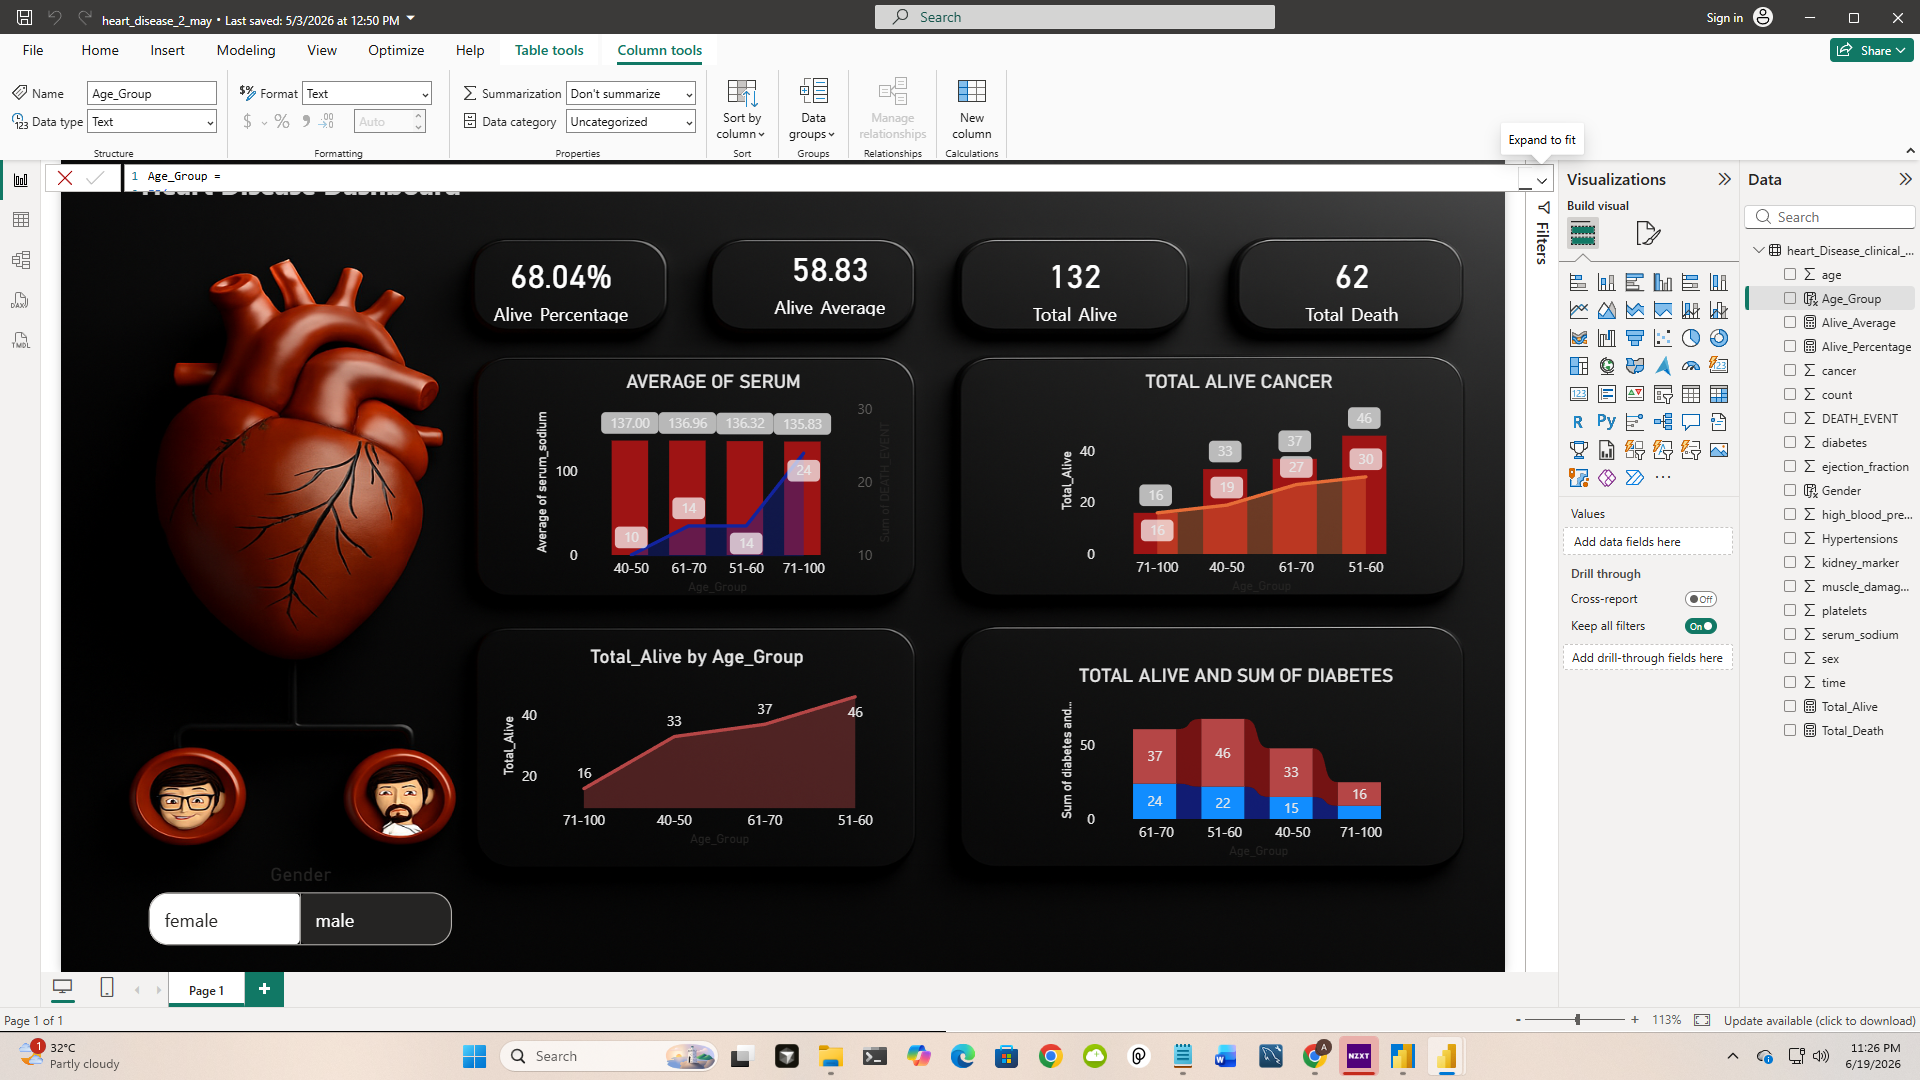

The dashboard page shown, as its layout file describes it:
{"tool":"powerbi","page":{"name":"Page 1","canvas":[1280,720],"ordinal":0},"visuals":[{"type":"textbox","box":[9.5,0,406.3,46.3],"z":0},{"type":"card","fields":{"Values":["heart_Disease_clinical_records_.Alive_Percentage"]},"box":[343.2,74.5,200.4,75.4],"z":1000},{"type":"lineClusteredColumnComboChart","title":"TOTAL ALIVE CANCER","fields":{"Y":["heart_Disease_clinical_records_.Total_Alive"],"Category":["heart_Disease_clinical_records_.Age_Group"],"Y2":["Sum(heart_Disease_clinical_records_.cancer)"]},"box":[881.4,186.2,326.3,202.2],"z":2000},{"type":"card","fields":{"Values":["heart_Disease_clinical_records_.Total_Death"]},"box":[1044.5,74.5,200.4,75.4],"z":3000},{"type":"card","fields":{"Values":["heart_Disease_clinical_records_.Total_Alive"]},"box":[812.2,74.5,173.8,75.4],"z":4000},{"type":"card","fields":{"Values":["heart_Disease_clinical_records_.Alive_Average"]},"box":[581.7,68.3,200.4,75.4],"z":5000},{"type":"lineChart","fields":{"Y":["heart_Disease_clinical_records_.Total_Alive"],"Category":["heart_Disease_clinical_records_.Age_Group"]},"box":[386.6,430,354.7,182.7],"z":6000},{"type":"ribbonChart","title":"TOTAL ALIVE AND SUM OF DIABETES","fields":{"Y":["Sum(heart_Disease_clinical_records_.diabetes)","heart_Disease_clinical_records_.Total_Alive"],"Category":["heart_Disease_clinical_records_.Age_Group"]},"box":[881.4,446.9,321,176.5],"z":7000},{"type":"advancedSlicerVisual","fields":{"Values":["heart_Disease_clinical_records_.Gender"]},"box":[72.7,623.3,280.2,78],"z":8000},{"type":"lineClusteredColumnComboChart","title":"AVERAGE OF SERUM","fields":{"Category":["heart_Disease_clinical_records_.Age_Group"],"Y":["Avg(heart_Disease_clinical_records_.serum_sodium)"],"Y2":["Sum(heart_Disease_clinical_records_.DEATH_EVENT)"]},"box":[415.9,186.2,325.4,203.1],"z":9000}]}

Visuals, with their boxes on the page's 1280x720 design canvas (x1, y1, x2, y2). These are canvas units, not pixel positions in the 1920x1080 screenshot, which may show the page scaled, cropped or inside an application window:
textbox: (10,0,416,46)
card - heart_Disease_clinical_records_.Alive_Percentage: (343,74,544,150)
"TOTAL ALIVE CANCER" lineClusteredColumnComboChart: (881,186,1208,388)
card - heart_Disease_clinical_records_.Total_Death: (1044,74,1245,150)
card - heart_Disease_clinical_records_.Total_Alive: (812,74,986,150)
card - heart_Disease_clinical_records_.Alive_Average: (582,68,782,144)
lineChart - heart_Disease_clinical_records_.Total_Alive x heart_Disease_clinical_records_.Age_Group: (387,430,741,613)
"TOTAL ALIVE AND SUM OF DIABETES" ribbonChart: (881,447,1202,623)
advancedSlicerVisual - heart_Disease_clinical_records_.Gender: (73,623,353,701)
"AVERAGE OF SERUM" lineClusteredColumnComboChart: (416,186,741,389)
